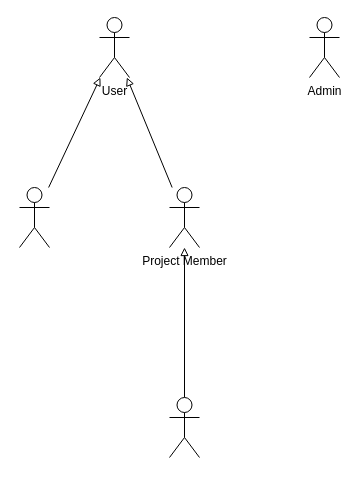
The diagram is 359 pixels wide and 496 high, and some of its shapes have lost their labels. Each missing label, with the centre of its shape:
"Project Coordinator" belongs at (184,427).
"VIsitor" belongs at (34,217).
